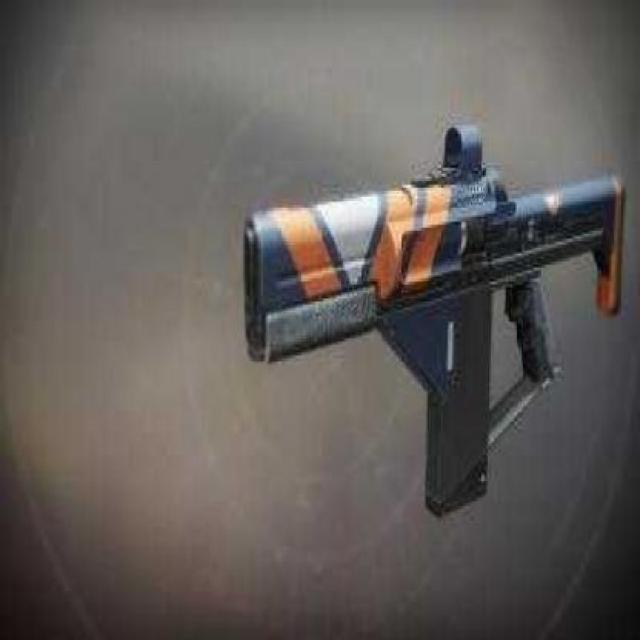weapon: (265, 122, 620, 502)
